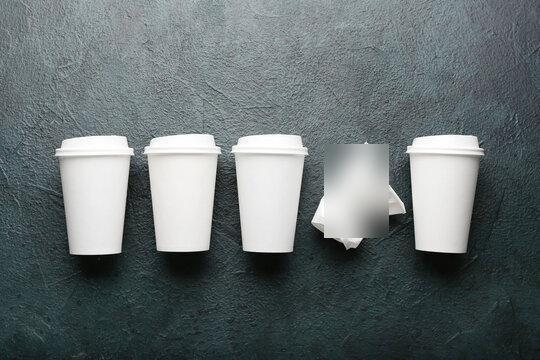cup-disposable: (54, 132, 135, 261), (405, 132, 486, 257), (230, 131, 309, 258), (144, 131, 222, 258)
